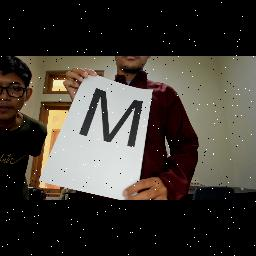m: (79, 86, 147, 150)
